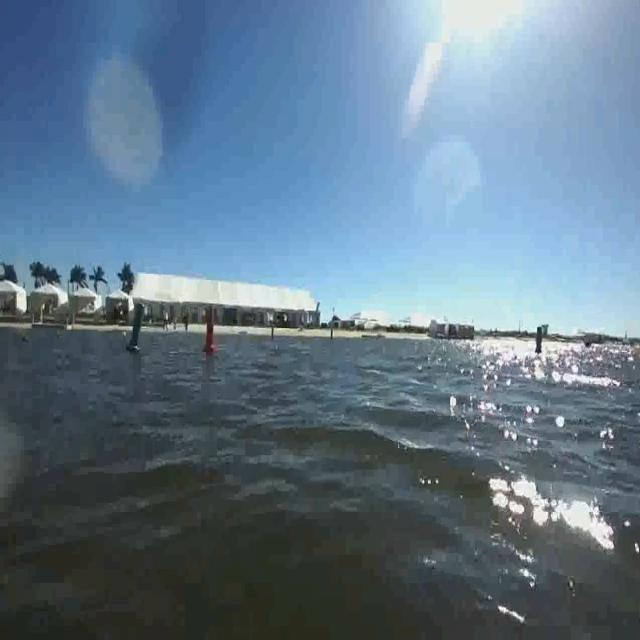green-column-buoy: (128, 303, 148, 353)
red-column-buoy: (203, 310, 219, 354)
